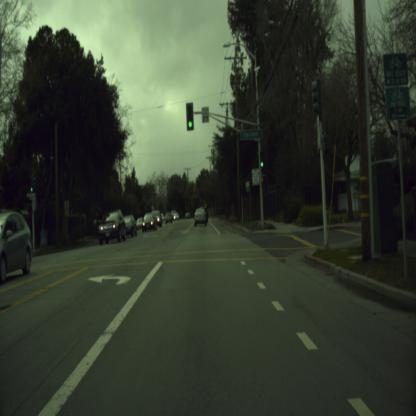Green: (186, 102, 194, 130), (259, 150, 264, 169), (30, 178, 34, 194)
